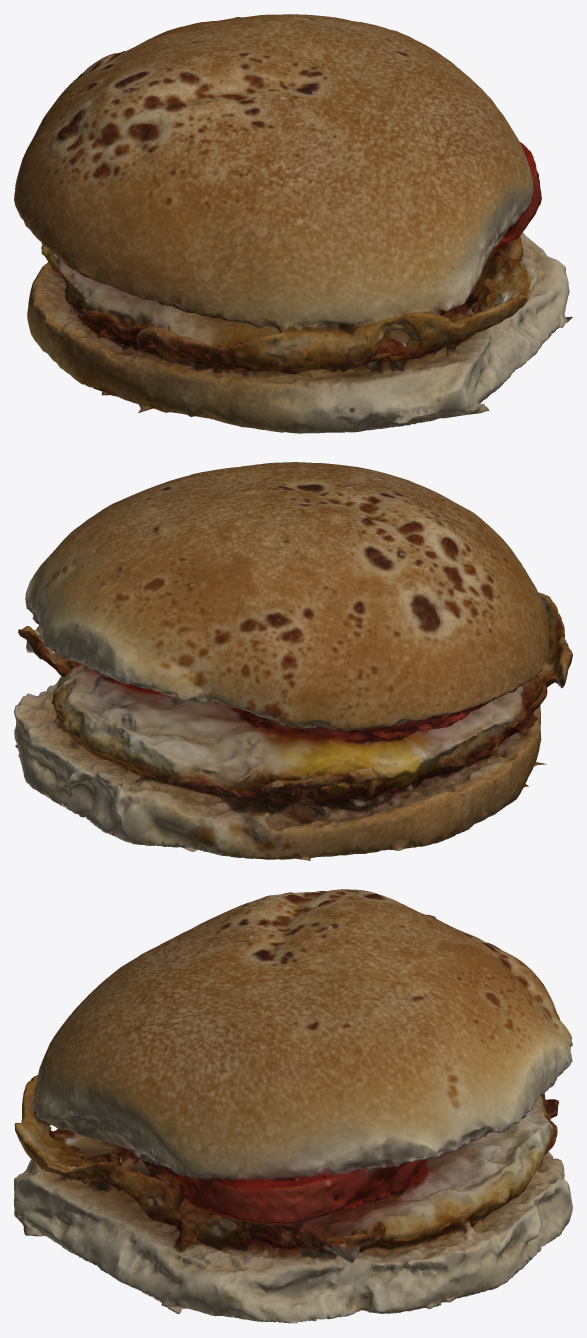
The model's file is egg-tomato.glb.
3 views of the same model, one above another, from view 1: azimuth 30°, elevation 25°; view 2: azimuth 150°, elevation 25°; view 3: azimuth 270°, elevation 25° (orthographic).
Visible parts, largest first — view 1: Measured 12 cm sandwich; view 2: Measured 12 cm sandwich; view 3: Measured 12 cm sandwich.
Boxes of the visible parts, box(x1,y1,x2,y2) form: Measured 12 cm sandwich: box(14, 14, 572, 433); Measured 12 cm sandwich: box(14, 462, 572, 860); Measured 12 cm sandwich: box(14, 889, 572, 1323).
Size of the model in its own units: 0.12 by 0.0647 by 0.1225.
Materials: 1 (1 with a texture image).
